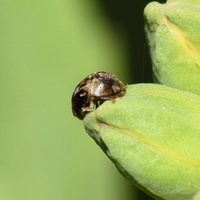insect: (72, 71, 126, 119)
